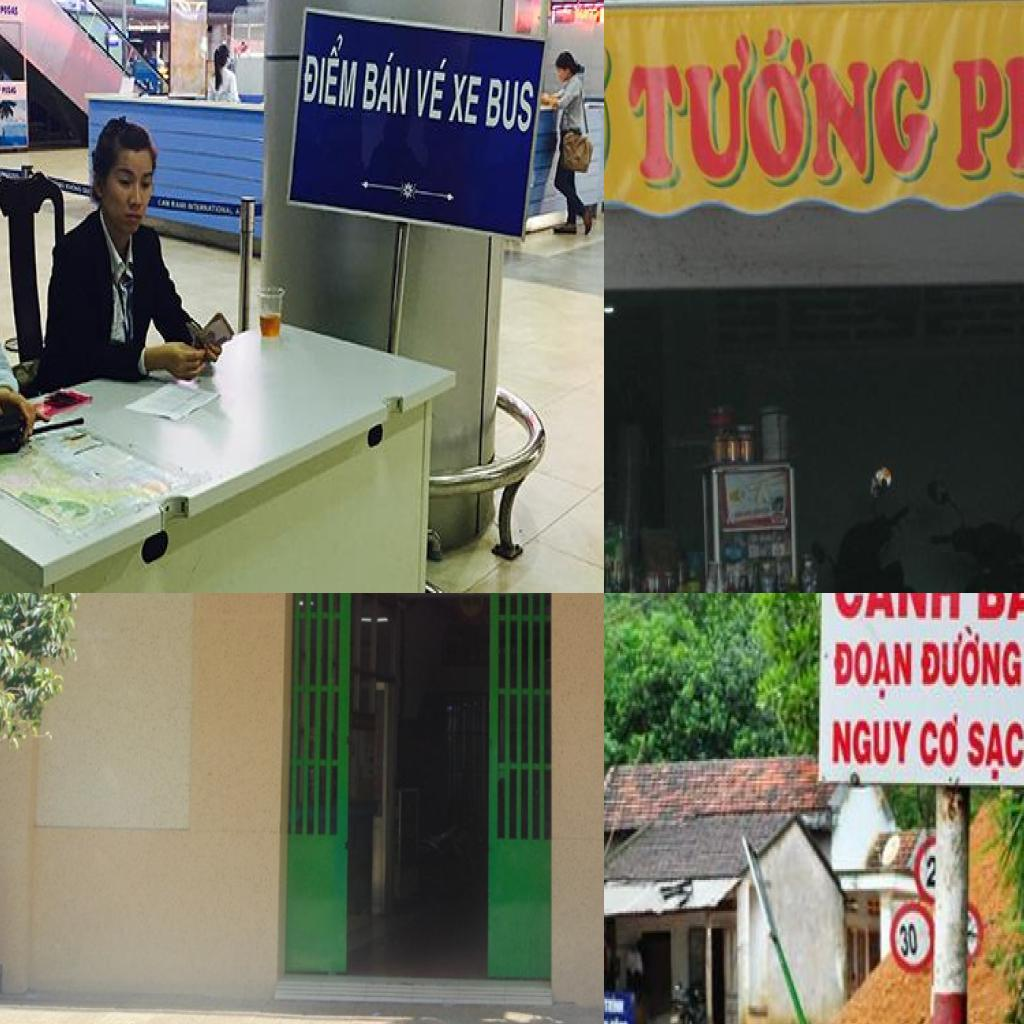text: (624, 20, 940, 190), (947, 14, 1024, 183), (917, 624, 1024, 693), (832, 633, 916, 704), (298, 26, 364, 114), (828, 712, 916, 770), (830, 593, 965, 628), (358, 46, 414, 120), (966, 717, 1024, 783), (482, 73, 538, 138), (411, 53, 451, 122), (917, 706, 959, 770), (444, 68, 485, 130), (893, 913, 923, 964), (923, 849, 939, 891), (604, 994, 624, 1016), (609, 1016, 630, 1024)
